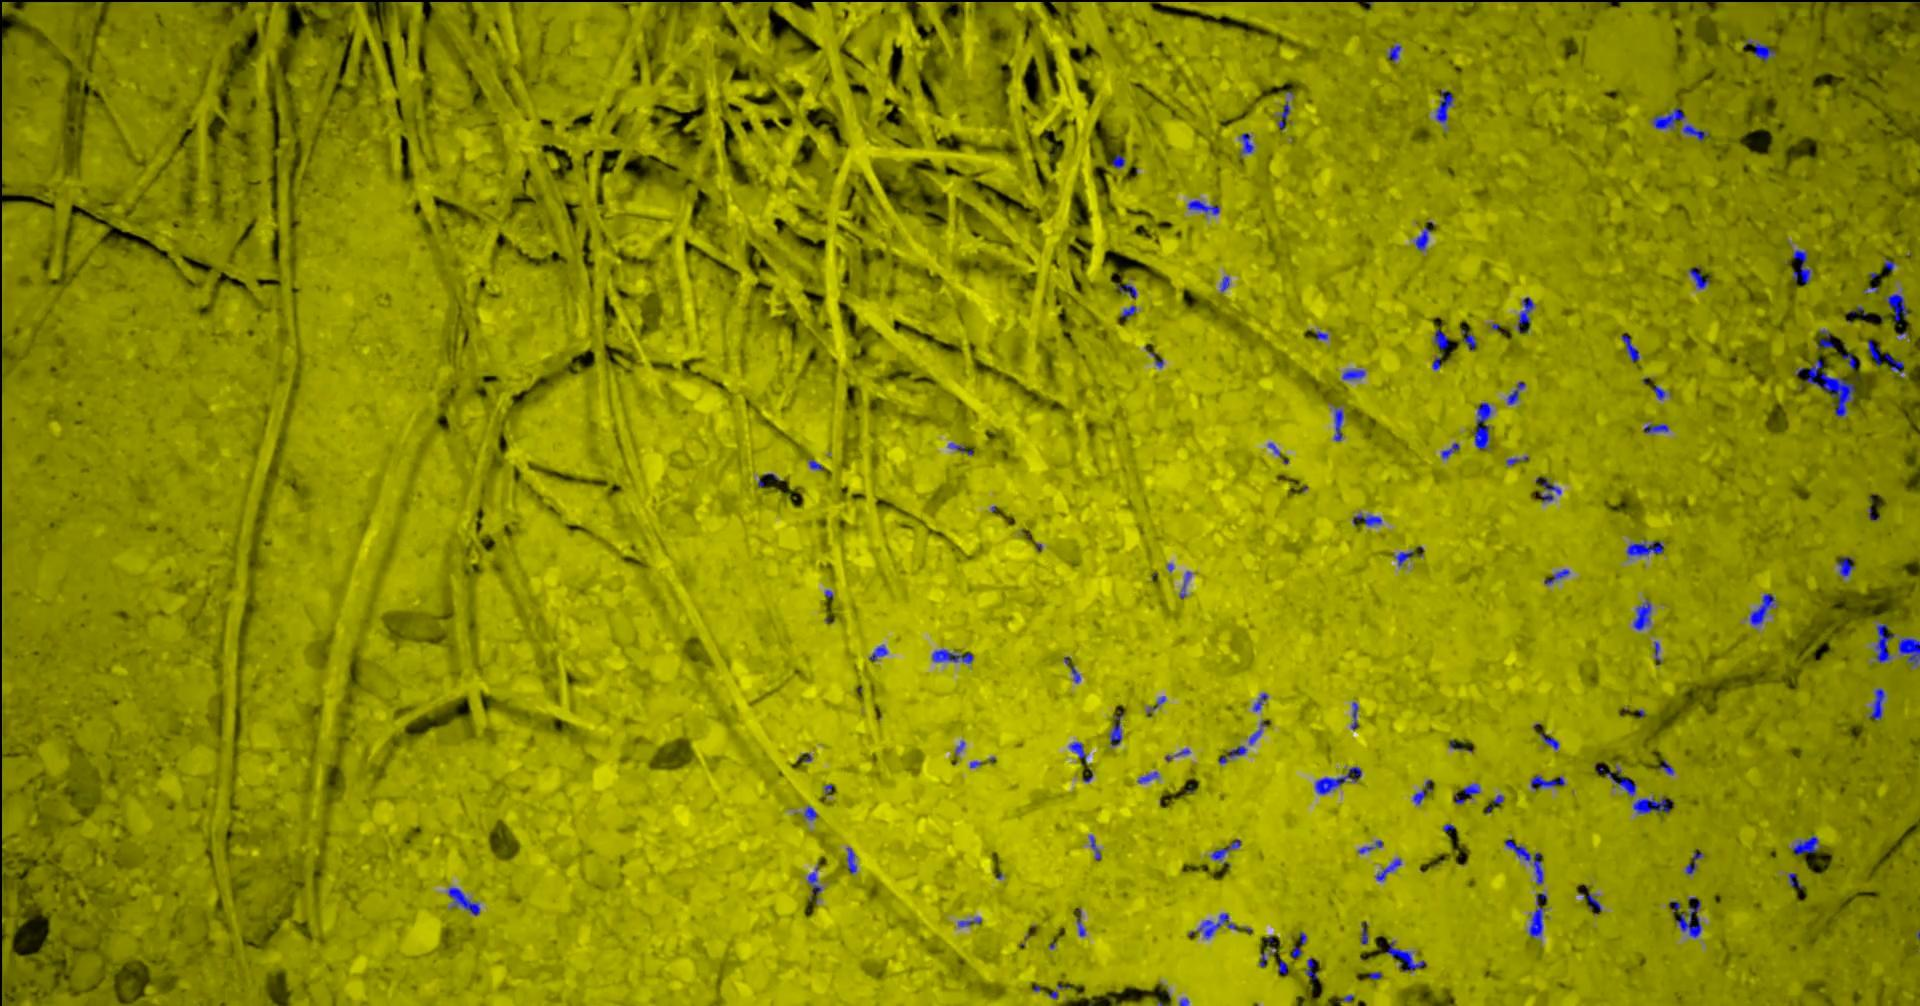ant: (1804, 359, 1854, 417), (1503, 838, 1543, 884), (1314, 766, 1361, 794), (1385, 941, 1425, 970), (1867, 340, 1903, 371), (1675, 901, 1702, 937), (1470, 401, 1491, 448), (1196, 913, 1236, 937), (1605, 766, 1636, 796), (447, 887, 479, 915), (1528, 892, 1547, 937), (1749, 593, 1775, 625), (1874, 622, 1895, 663), (1651, 105, 1684, 128), (1632, 796, 1672, 813), (1743, 39, 1775, 60), (1884, 293, 1907, 321), (1897, 636, 1919, 666), (1792, 249, 1810, 283), (1210, 840, 1239, 860), (1435, 89, 1453, 122), (1517, 297, 1534, 333), (931, 649, 973, 663), (1625, 540, 1663, 555), (1632, 600, 1651, 630), (1535, 478, 1559, 500), (1375, 857, 1399, 880), (1792, 835, 1820, 854), (1868, 687, 1884, 719), (1412, 779, 1432, 804), (1218, 746, 1246, 763), (1688, 265, 1709, 288), (1530, 775, 1564, 789), (1622, 334, 1639, 361), (1109, 713, 1123, 746), (1187, 199, 1219, 213), (1543, 568, 1570, 584), (1248, 720, 1266, 744), (1683, 124, 1708, 141), (1685, 848, 1702, 874), (1507, 381, 1525, 404), (1432, 329, 1448, 354), (1580, 893, 1601, 911), (1415, 227, 1430, 250), (1539, 732, 1558, 749), (1357, 840, 1382, 854), (1333, 406, 1343, 439), (1837, 555, 1854, 575), (1352, 513, 1382, 525), (1277, 100, 1289, 128), (1068, 741, 1084, 760), (1462, 329, 1476, 351), (1841, 353, 1859, 370), (1441, 442, 1459, 459), (1117, 282, 1137, 297), (869, 644, 888, 659), (1252, 692, 1267, 711), (1239, 132, 1253, 152), (808, 873, 822, 893), (947, 442, 971, 453), (1088, 835, 1100, 859), (1817, 329, 1832, 347), (1396, 550, 1413, 565), (1462, 782, 1479, 798), (1305, 956, 1317, 979), (846, 847, 856, 873), (1137, 771, 1158, 782), (1643, 423, 1669, 432), (1341, 370, 1365, 379), (957, 917, 982, 926), (1350, 701, 1357, 729), (803, 805, 817, 821), (1787, 873, 1801, 888), (1120, 305, 1137, 318), (1387, 44, 1399, 60), (1652, 385, 1665, 399), (1360, 921, 1368, 944), (1111, 154, 1124, 166)
